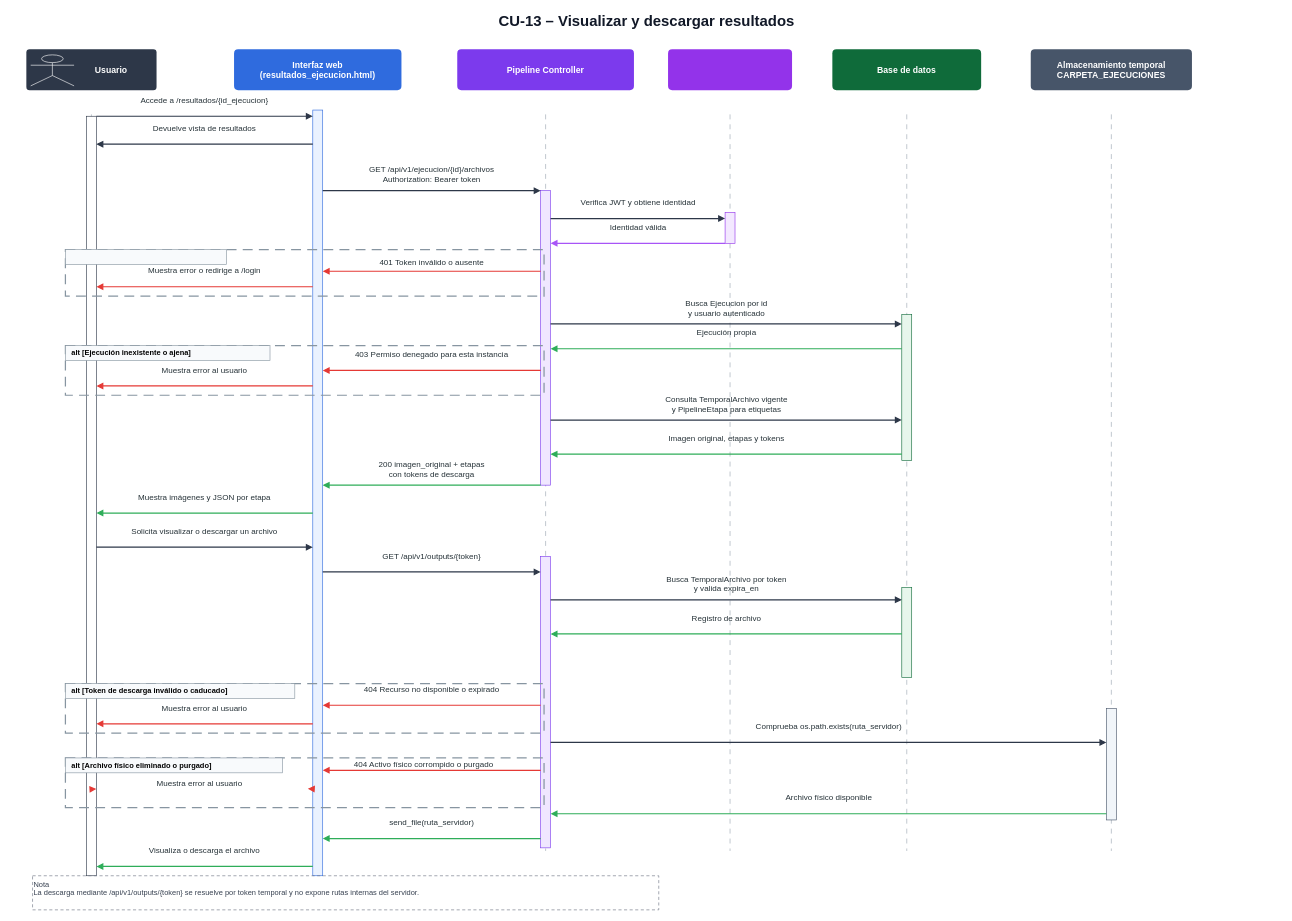
This 1292x921 diagram has some shape labels left out. Here are the shapes that lost their labels. From the top down, the box of each, then its label:
(668, 49, 792, 90): Servicio JWT
(65, 249, 227, 264): alt [Token inválido o ausente]
